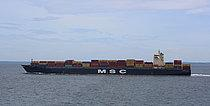Ship: (21, 50, 195, 81)
